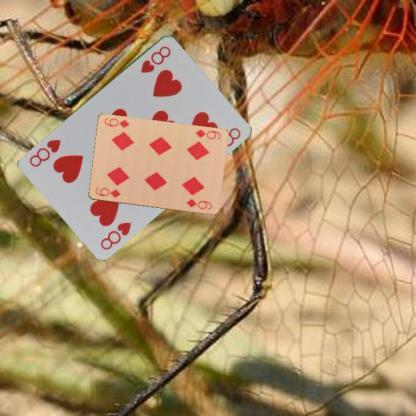6d: (192, 127, 222, 141), (92, 185, 121, 199)
8h: (98, 219, 133, 251), (138, 43, 172, 74)
